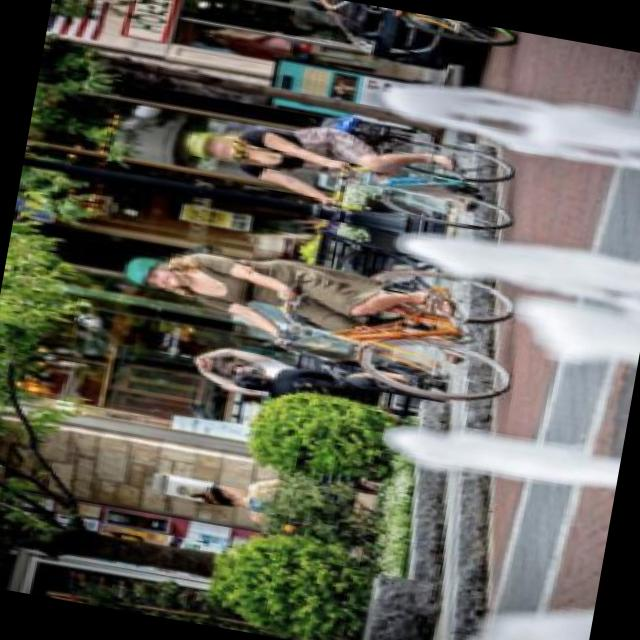With Helmet: (115, 249, 168, 291), (175, 126, 235, 162)
